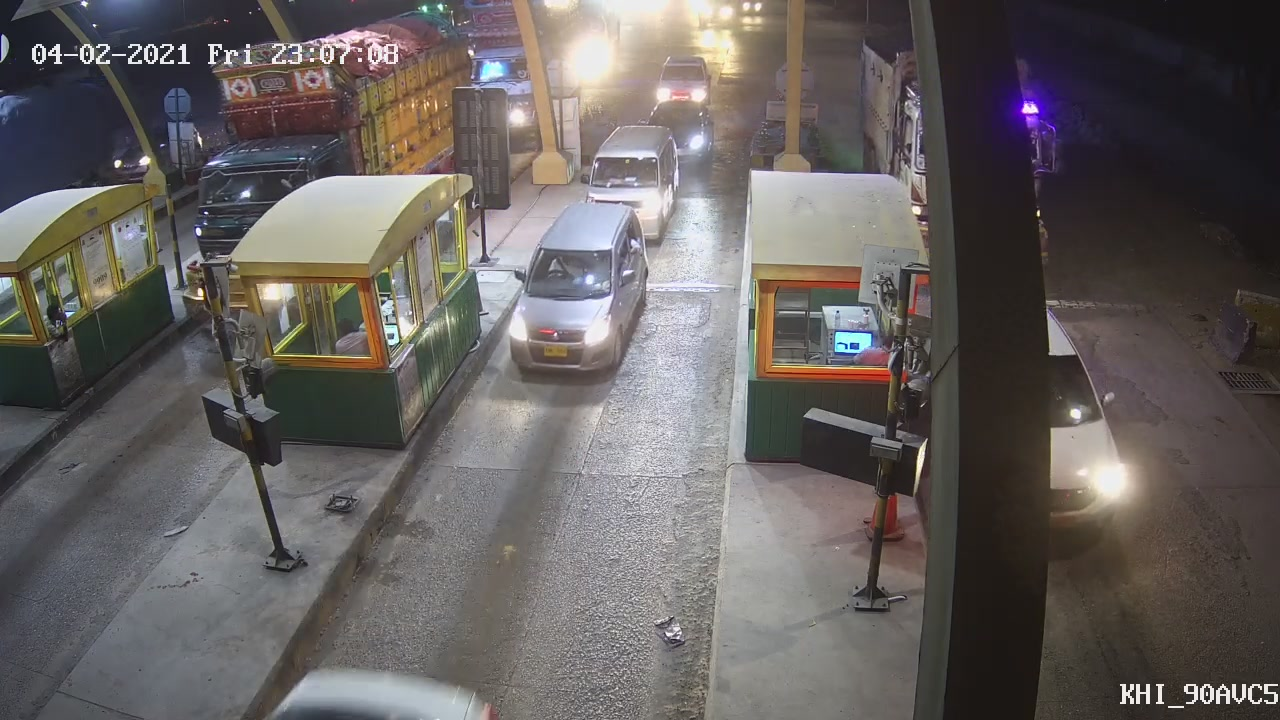F1: (505, 196, 656, 374)
